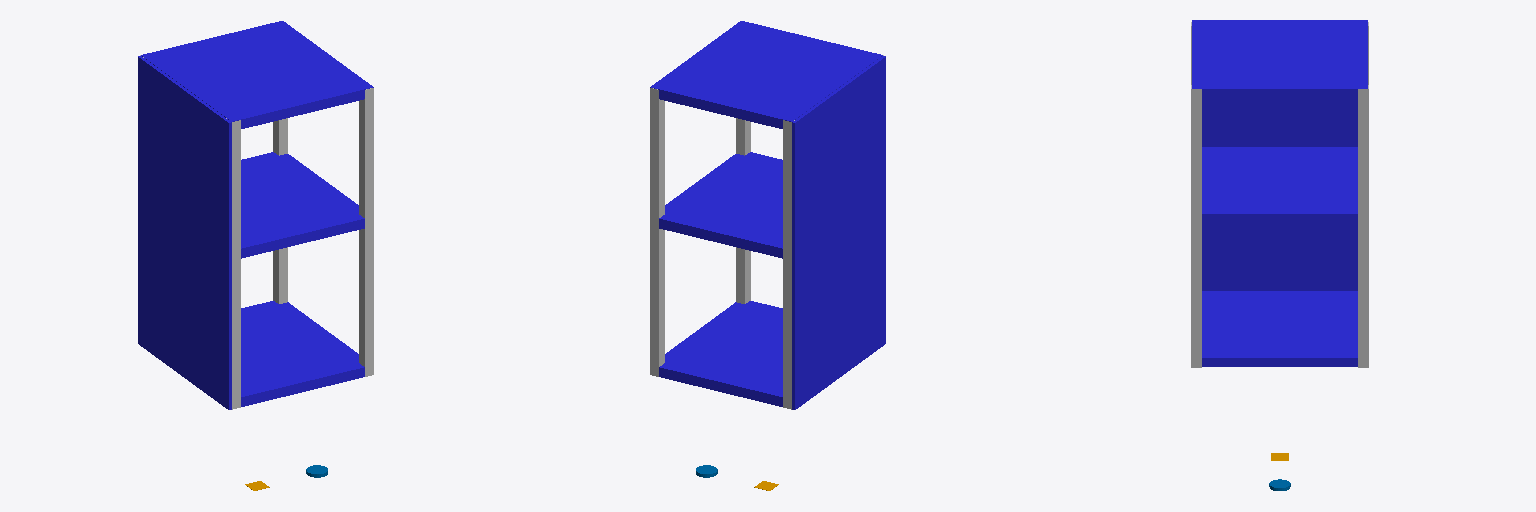
The robot description file, URDF, robot "WPV3_RACK":
<?xml version="1.0"?>
<robot name="WPV3_RACK">

  <!-- material -->
  <material name = "black">
    <color rgba = "0.01 0.01 0.01 1"/>
  </material>
  <material name = "grey">
    <color rgba = "0.2 0.2 0.2 1"/>
  </material>
  <material name = "blue">
    <color rgba = "0.2 0.2 0.9 1"/>
  </material>
  <material name = "sliver">
    <color rgba = "0.8 0.8 0.8 1"/>
  </material>

<link name="base_footprint">
    <visual>
      <origin xyz="0 0 0" rpy="0 0 0" />
      <geometry>
        <box size="0.05 0.05 0.001" />
      </geometry>
      <material name="TransparentGreen" />
    </visual>
    <collision>
      <origin xyz="0 0 .1" rpy="0 0 0" />
      <geometry>
        <box size="0.76 0.5 .2"/>
      </geometry>
    </collision>
    <inertial>
    <mass value="10"/>
    <inertia ixx="0.4" ixy="0.0" ixz="0.0" iyy="0.4" iyz="0.0" izz="0.2"/>
    </inertial>
</link>

  <!-- base -->
  <link name="base_link">
  <visual>
   <geometry>
    <mesh filename="package://wpr_warehousing_monitor/meshes/wpv3/wpv3.dae" scale="1 1 1"/>
   </geometry>
   <origin rpy = "1.57 0 -1.57" xyz = "0.22 .293 0"/>
  </visual>
  </link>
<joint name="base_joint" type="fixed">
  <origin xyz="0 0 0" rpy="0 0 0" />
  <parent link="base_footprint"/>
  <child link="base_link" />
</joint>


  <!-- mobile_rack_levels -->
  <link name = "rack_level_1">
    <visual>
    <geometry>
      <box size="0.45 0.5 0.03"/>
    </geometry>
    <origin rpy = "0 0 0" xyz = "0 0 0"/>
    <material name = "blue"/>
    </visual>
  </link>
  <joint name="joint_level_1" type="fixed">
      <origin rpy="0 0 0" xyz="0 0 0.4" /> 
      <parent link="base_link" />
      <child link="rack_level_1" />
  </joint>
  <link name = "rack_level_2">
    <visual>
    <geometry>
      <box size="0.45 0.5 0.03"/>
    </geometry>
    <origin rpy = "0 0 0" xyz = "0 0 0"/>
    <material name = "blue"/>
    </visual>
  </link>
  <joint name="level_2" type="fixed">
      <origin rpy="0 0 0" xyz="0 0 0.85"  /> 
      <parent link="base_link" />
      <child link="rack_level_2" />
  </joint>
  <link name = "rack_level_3">
    <visual>
    <geometry>
      <box size="0.45 0.5 0.03"/>
    </geometry>
    <origin rpy = "0 0 0" xyz = "0 0 0"/>
    <material name = "blue"/>
    </visual>
  </link>
  <joint name="level_3" type="fixed">
      <origin rpy="0 0 0" xyz="0 0 1.241"  /> 
      <parent link="base_link" />
      <child link="rack_level_3" />
  </joint>

  <!-- mobile_rack_beams -->
  <link name = "rack_beam_1">
    <visual>
    <geometry>
      <box size="0.03 0.03 0.87"/>
    </geometry>
    <origin rpy = "0 0 0" xyz = "0 0 0"/>
    <material name = "sliver"/>
    </visual>
  </link>
  <joint name="joint_beam_1" type="fixed">
      <origin rpy="0 0 0" xyz="0.211 0.236 0.82" /> 
      <parent link="base_link" />
      <child link="rack_beam_1" />
  </joint>
  <link name = "rack_beam_2">
    <visual>
    <geometry>
      <box size="0.03 0.03 0.87"/>
    </geometry>
    <origin rpy = "0 0 0" xyz = "0 0 0"/>
    <material name = "sliver"/>
    </visual>
  </link>
  <joint name="joint_beam_2" type="fixed">
      <origin rpy="0 0 0" xyz="-0.211 0.236 0.82" /> 
      <parent link="base_link" />
      <child link="rack_beam_2" />
  </joint>
  <link name = "rack_beam_3">
    <visual>
    <geometry>
      <box size="0.03 0.03 0.87"/>
    </geometry>
    <origin rpy = "0 0 0" xyz = "0 0 0"/>
    <material name = "sliver"/>
    </visual>
  </link>
  <joint name="joint_beam_3" type="fixed">
      <origin rpy="0 0 0" xyz="-0.211 -0.236 0.82" /> 
      <parent link="base_link" />
      <child link="rack_beam_3" />
  </joint>
  <link name = "rack_beam_4">
    <visual>
    <geometry>
      <box size="0.03 0.03 0.87"/>
    </geometry>
    <origin rpy = "0 0 0" xyz = "0 0 0"/>
    <material name = "sliver"/>
    </visual>
  </link>
  <joint name="joint_beam_4" type="fixed">
      <origin rpy="0 0 0" xyz="0.211 -0.236 0.82" /> 
      <parent link="base_link" />
      <child link="rack_beam_4" />
  </joint>

<!-- mobile_rack_back -->
<link name = "rack_back">
    <visual>
    <geometry>
      <box size="0.01 0.5 0.87"/>
    </geometry>
    <origin rpy = "0 0 0" xyz = "0 0 0"/>
    <material name = "blue"/>
    </visual>
  </link>
  <joint name="joint_back" type="fixed">
      <origin rpy="0 0 0" xyz="-0.23 0 0.82" /> 
      <parent link="base_link" />
      <child link="rack_back" />
  </joint>

  <!-- kinect2 model -->
  <link name = "kinect2">
    <visual>
    <geometry>
      <mesh filename="package://wpr_warehousing_monitor/meshes/wpv3/kinect2.dae" scale="1 1 1"/>
    </geometry>
    <origin rpy = "0 0 0" xyz = "0 0 0"/>
    
    </visual>
  </link>
  <joint name="rack_kinect2" type="fixed">
      <origin rpy="0 0 3.14" xyz="0.2 0 1.26"  /> 
      <parent link="base_link" />
      <child link="kinect2" />
  </joint>

  <!-- es buttom -->
  <link name = "emergency_stop">
    <visual>
    <geometry>
      <mesh filename="package://wpr_warehousing_monitor/meshes/wpv3/emergency_stop.dae" scale="1 1 1"/>
    </geometry>
    <origin rpy = "0 0 0" xyz = "0 0 0"/>
    
    </visual>
  </link>
  <joint name="rack_es" type="fixed">
      <origin rpy="0 0 0" xyz="-0.2 0 1.25"  /> 
      <parent link="base_link" />
      <child link="emergency_stop" />
  </joint>

  <!-- *****************-->
  <!-- Lidar -->
  <link name = "laser">
    <visual>
    <geometry>
      <cylinder length="0.01" radius="0.03"/>
    </geometry>
    <origin rpy = "0 0 0" xyz = "0 0 0"/>
    </visual>
  </link>
  <joint name="laser_joint" type="fixed">
      <origin rpy="0 0 0" xyz="0.19 0 0"  /> <!--pos-->
      <parent link="base_link" />
      <child link="laser" />
  </joint>

  <!-- Kinect -->
<link name = "kinect2_dock">
  <visual>
   <geometry>
    <!-- <box size=".01 .25 .07"/>-->
    <box size="0 0 0"/>
   </geometry>
   <origin rpy = "0 0 0" xyz = "0 0 0"/>
   <material name = "red"/>
  </visual>
</link>
<joint name="kinect_height" type="prismatic">
    <parent link="base_link"/>
    <child link="kinect2_dock"/>
    <limit effort="1000.0" lower="0" upper="1.35" velocity="0.5"/>
    <origin xyz="0.174 0 0" rpy="0 -1.5707963 0"/>
  </joint>

<link name = "kinect2_ir_optical_frame">
  <visual>
   <geometry>
    <!-- <box size=".25 .04 .07"/>-->
    <box size="0 0 0"/>
   </geometry>
   <origin xyz = "0 0 0" rpy = "0 0 0"/>
   <material name = "blue"/>
  </visual>
</link>

<joint name="kinect_pitch" type="revolute">
    <axis xyz="1 0 0"/>
    <limit effort="1000.0" lower="-1.57" upper="1.57" velocity="0.5"/>
    <origin xyz="0 0 0" rpy="3.1415926 0 -1.5707963" /> <!--pos-->
    <parent link="kinect2_dock" />
    <child link="kinect2_ir_optical_frame" />
</joint>

<link name = "kinect2_rgb_optical_frame">
  <visual>
   <geometry>
    <box size="0 0 0"/>
   </geometry>
   <origin rpy = "0 0 0" xyz = "0 0 0"/>
   <material name = "blue"/>
  </visual>
</link>
<joint name="kinect_hd_joint" type="fixed">
    <origin xyz="0 0 0" rpy="0 0 0" /> <!--pos-->
    <parent link="kinect2_ir_optical_frame" />
    <child link="kinect2_rgb_optical_frame" />
</joint>

</robot>

--- What the picture shows (computed from the rendered views, not written in the file) ---
The picture shows the robot from 3 angles, left to right: view 1: azimuth 30°, elevation 25°; view 2: azimuth 150°, elevation 25°; view 3: azimuth 270°, elevation 25°; orthographic projection.
Model WPV3_RACK with 16 links and 15 joints (1 revolute, 1 prismatic, 13 fixed), rooted at base_footprint, posed all joints at 0.
Links seen in each view (by area): view 1: rack_back, rack_level_3, rack_level_1, rack_level_2, rack_beam_4, rack_beam_3, rack_beam_1; view 2: rack_back, rack_level_3, rack_level_1, rack_level_2, rack_beam_1, rack_beam_2, rack_beam_4; view 3: rack_back, rack_level_3, rack_level_1, rack_level_2, rack_beam_1, rack_beam_4.
Link boxes in pixels (box(x1,y1,x2,y2)): rack_back: box(138, 56, 231, 409); rack_level_3: box(141, 21, 373, 128); rack_level_1: box(241, 301, 364, 406); rack_level_2: box(241, 152, 364, 258); rack_beam_4: box(359, 88, 373, 376); rack_beam_3: box(226, 118, 240, 409); rack_beam_1: box(273, 118, 287, 303); rack_back: box(792, 56, 885, 409); rack_level_3: box(650, 21, 882, 128); rack_level_1: box(659, 301, 782, 406); rack_level_2: box(659, 152, 782, 258); rack_beam_1: box(650, 88, 664, 376); rack_beam_2: box(783, 120, 794, 409); rack_beam_4: box(736, 118, 750, 303); rack_back: box(1192, 20, 1367, 290); rack_level_3: box(1192, 22, 1367, 97); rack_level_1: box(1202, 291, 1357, 366); rack_level_2: box(1202, 147, 1357, 222); rack_beam_1: box(1358, 85, 1368, 367); rack_beam_4: box(1191, 85, 1201, 367).
Size in the robot's own frame: 0.461 by 0.502 by 1.26 metres.
Meshes: 3 distinct files referenced, 0 mesh visuals loaded (none loaded); not drawn: 3 (reference not matched to a file when rendering).